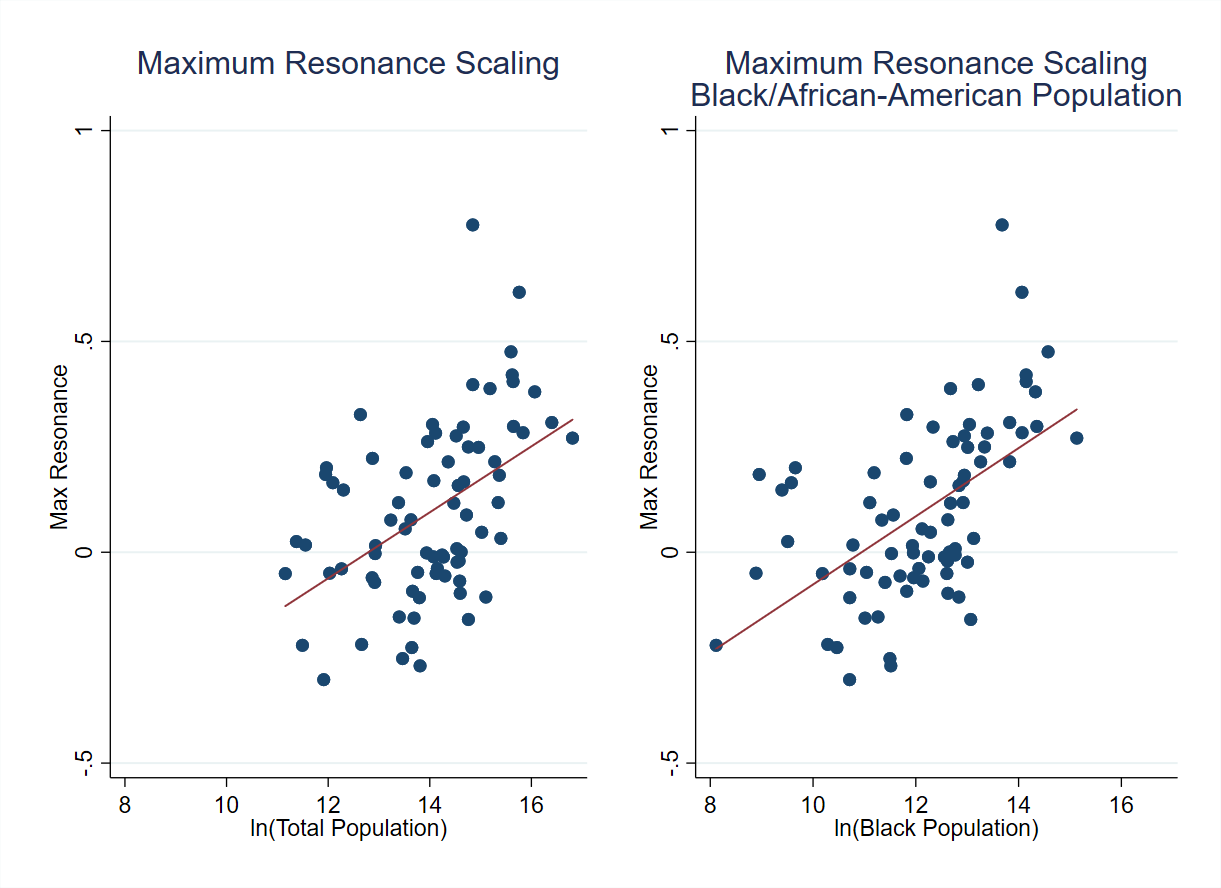

The page's visual inventory and layout, read from the dashboard file:
{"tool":"tableau","page":{"name":"Dashboard 1","canvas":[1600,900],"ordinal":0},"visuals":[{"type":"worksheet","title":"Sheet 1","mark":"Automatic","box":[8,8,711.9,884]},{"type":"worksheet","title":"Sheet 1 (2)","mark":"Automatic","box":[719.9,8,712.1,884]},{"type":"currpage","title":"Sheet 1","box":[1432,8,160,110]}]}

Visuals, with their boxes on the page's 1600x900 design canvas (x1, y1, x2, y2). These are canvas units, not pixel positions in the 1221x888 screenshot, which may show the page scaled, cropped or inside an application window:
"Sheet 1" worksheet: (x1=8, y1=8, x2=720, y2=892)
"Sheet 1 (2)" worksheet: (x1=720, y1=8, x2=1432, y2=892)
"Sheet 1" currpage: (x1=1432, y1=8, x2=1592, y2=118)
